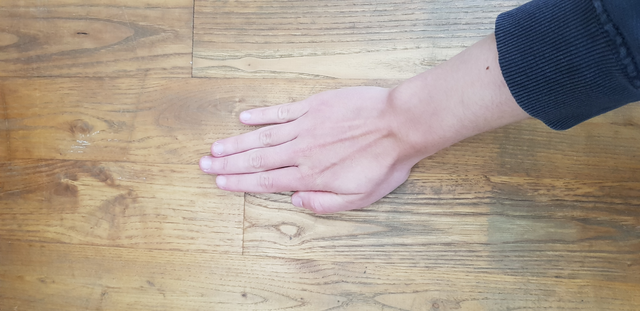Paper: (165, 84, 418, 238)
